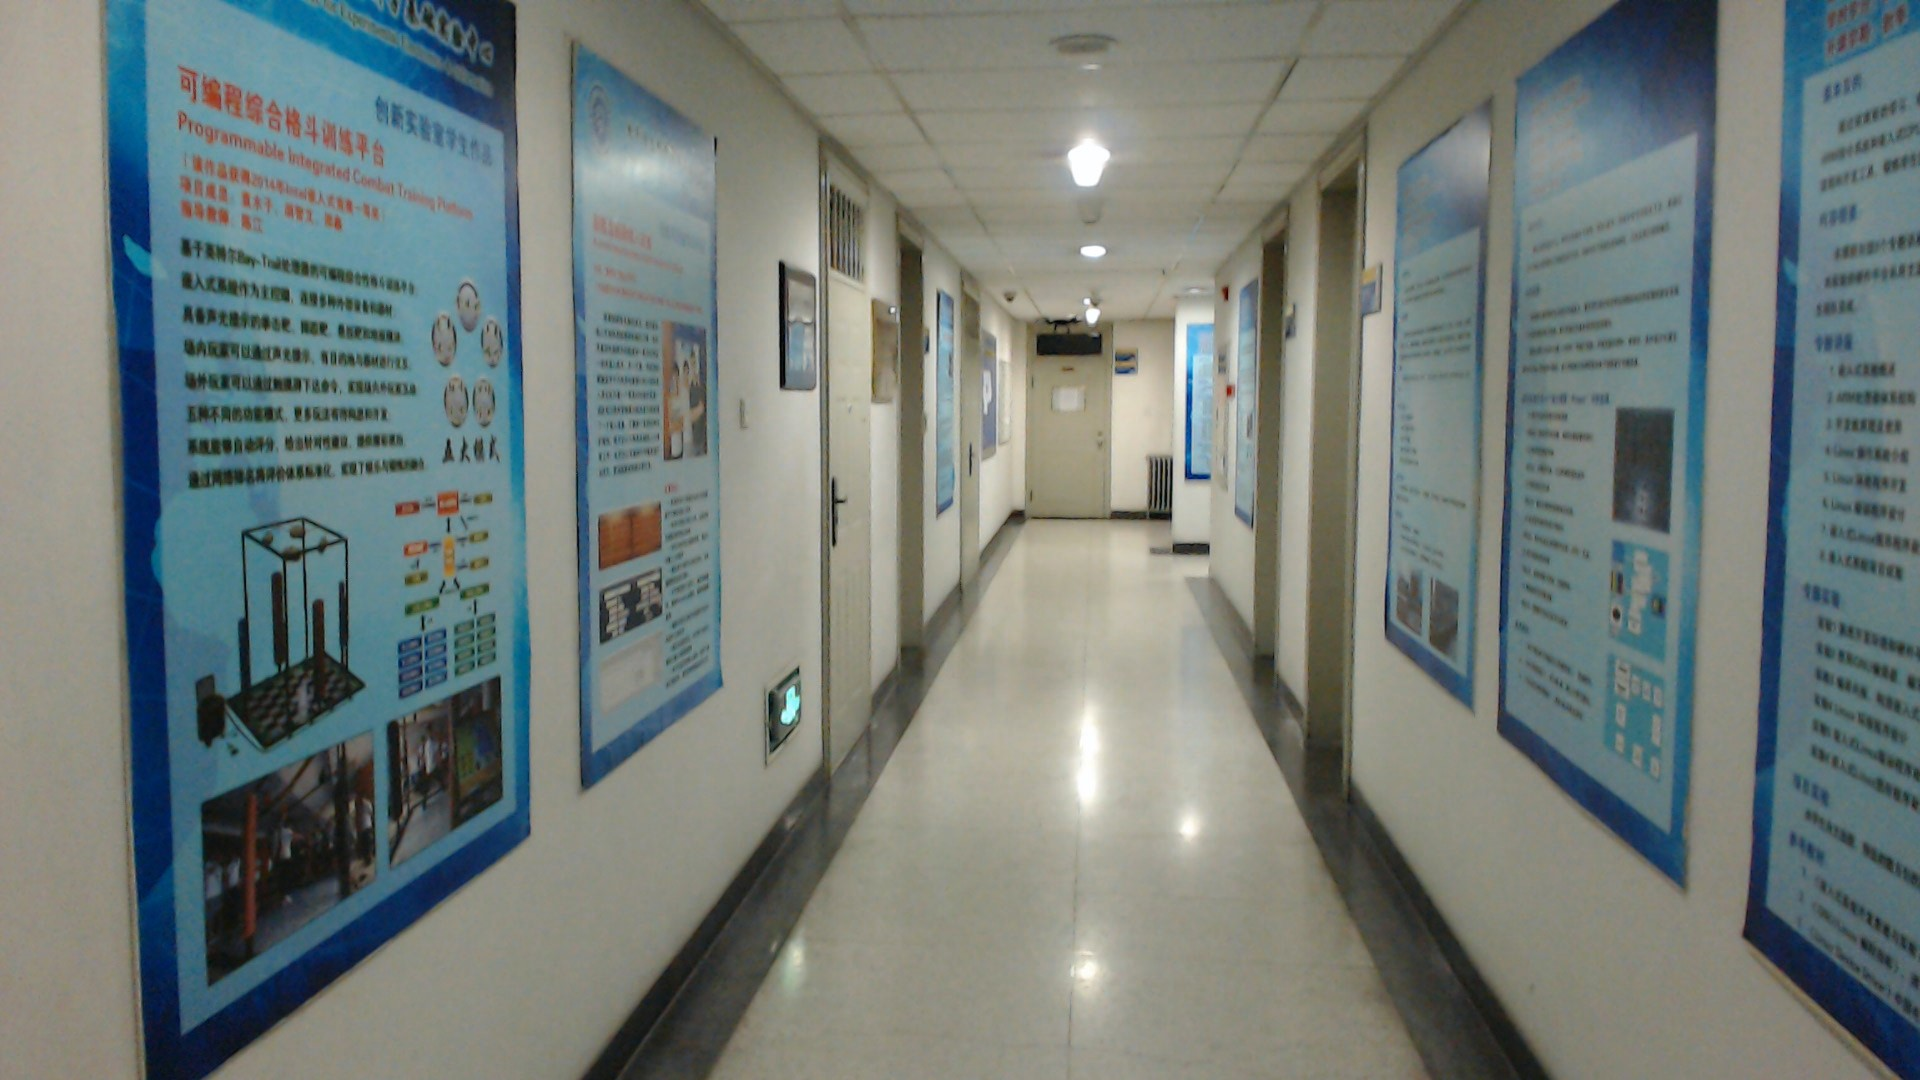test_drone: (1036, 314, 1089, 338)
